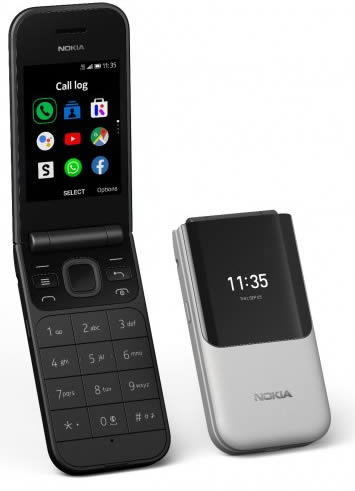Phone: (7, 1, 173, 479), (171, 209, 335, 457)
